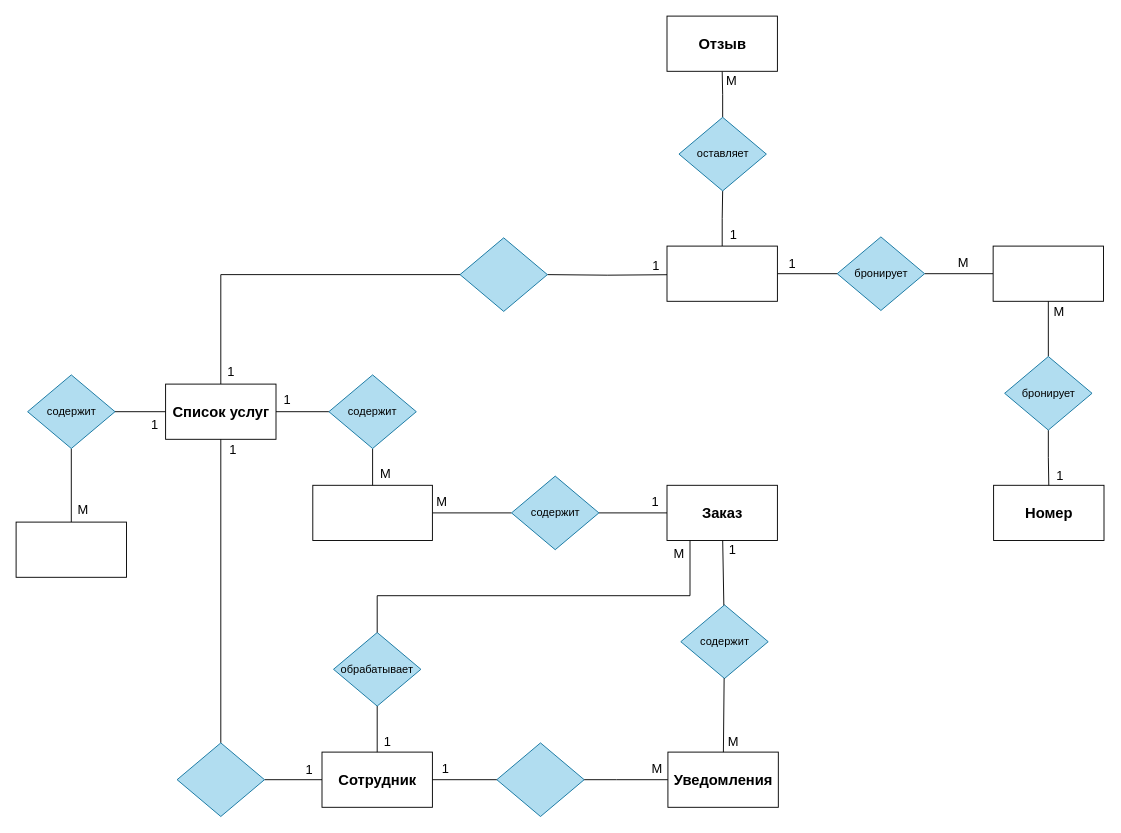
Some shapes in this 1121 by 833 pixel diagram are drawn without their labels. Each missing label, with the centre of its shape:
"Бронь" goes at (x=1048, y=273).
"Гость" goes at (x=721, y=273).
"получает" goes at (x=540, y=779).
"просматривает" goes at (x=503, y=274).
"Услуга" goes at (x=70, y=549).
"Услуга в заказе" goes at (x=372, y=512).
"формирует" goes at (x=220, y=779).
